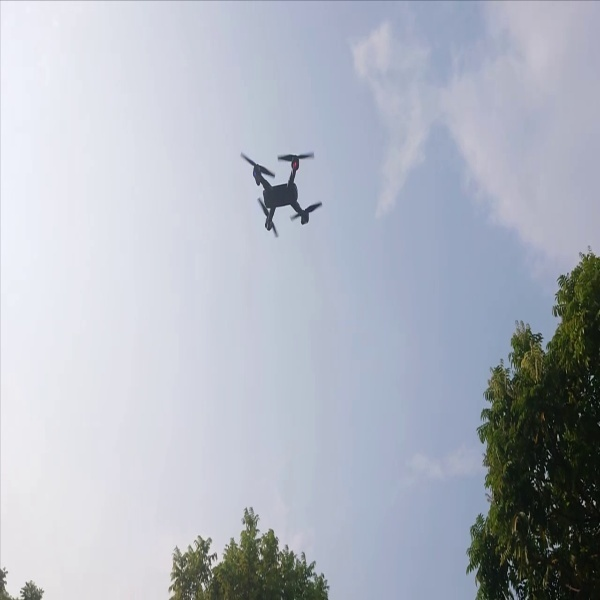drone: (233, 140, 329, 240)
